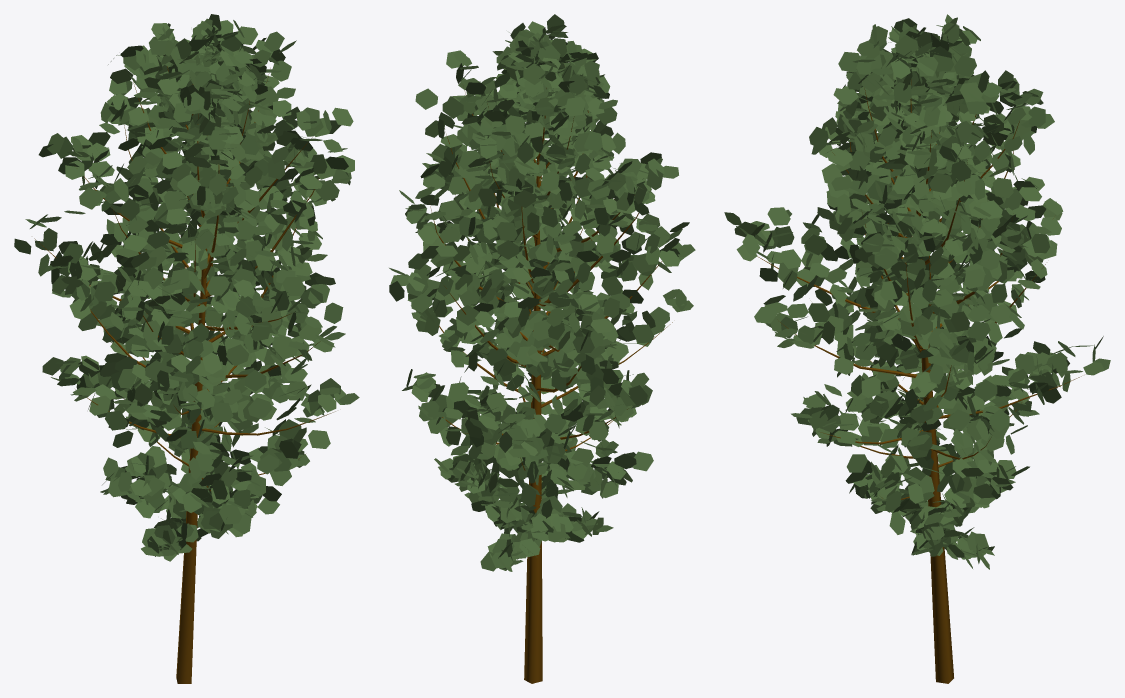
The model's file is tree-tree-006.glb.
3 views of the same model, side by side, from view 1: azimuth 30°, elevation 25°; view 2: azimuth 150°, elevation 25°; view 3: azimuth 270°, elevation 25° (orthographic). The views are drawn at different scales.
Parts seen in each view (by area): view 1: v_tree.006; view 2: v_tree.006; view 3: v_tree.006.
Boxes of the visible parts, x1=… form: v_tree.006: x1=14, y1=14, x2=359, y2=683; v_tree.006: x1=389, y1=14, x2=695, y2=683; v_tree.006: x1=724, y1=14, x2=1110, y2=683.
Size of the model in its own units: 7.28 by 16.33 by 8.65.
